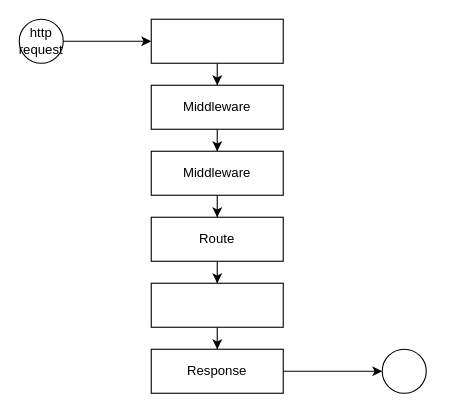
Some shapes in this 450 by 413 pixel diagram are drawn without their labels. The centre of each missing label's shape, as x and y in pixels:
Controller/Action: (216,304)
http response: (403,370)
Request: (216,40)
